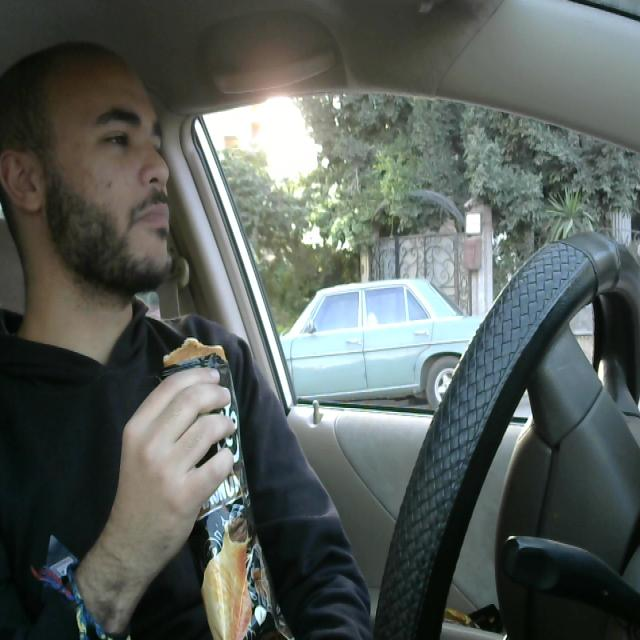eating: (159, 317, 296, 640)
